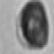correct: (11, 0, 51, 51)
